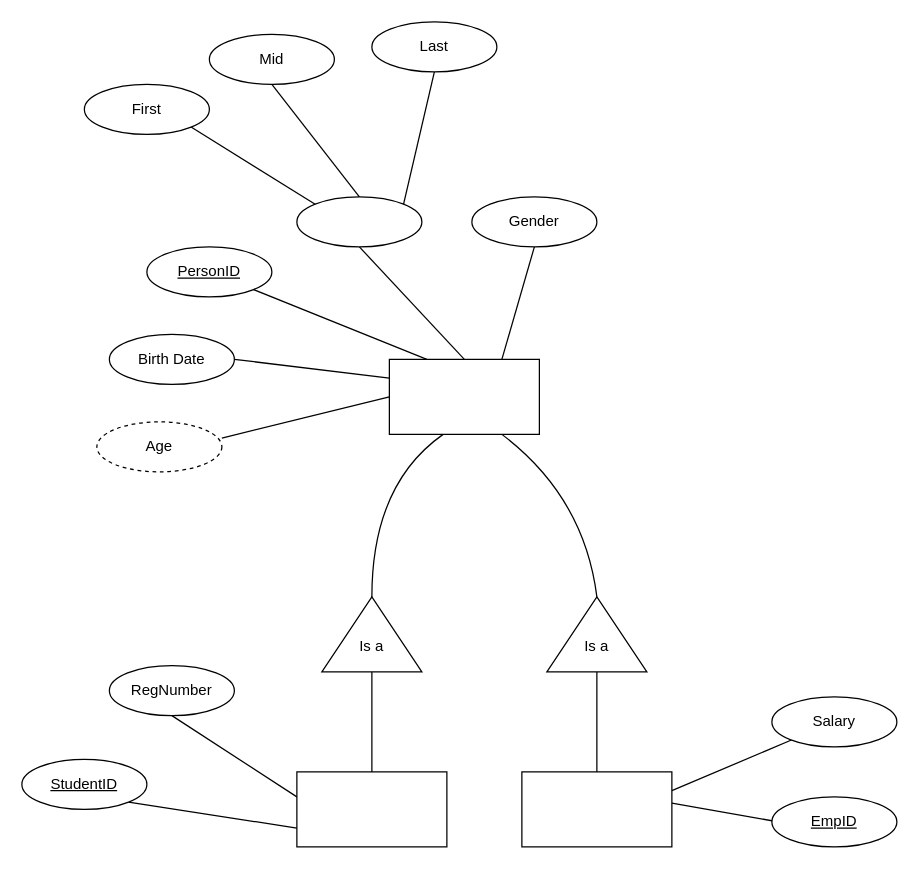
The diagram is 919 pixels wide and 869 high, and some of its shapes have lost their labels. The shapes that lost their labels are listed below. From the top down, each one's centre as x and y in pixels, then its label:
[359,221]: Name
[463,396]: Person
[371,809]: Student
[596,809]: Employee
